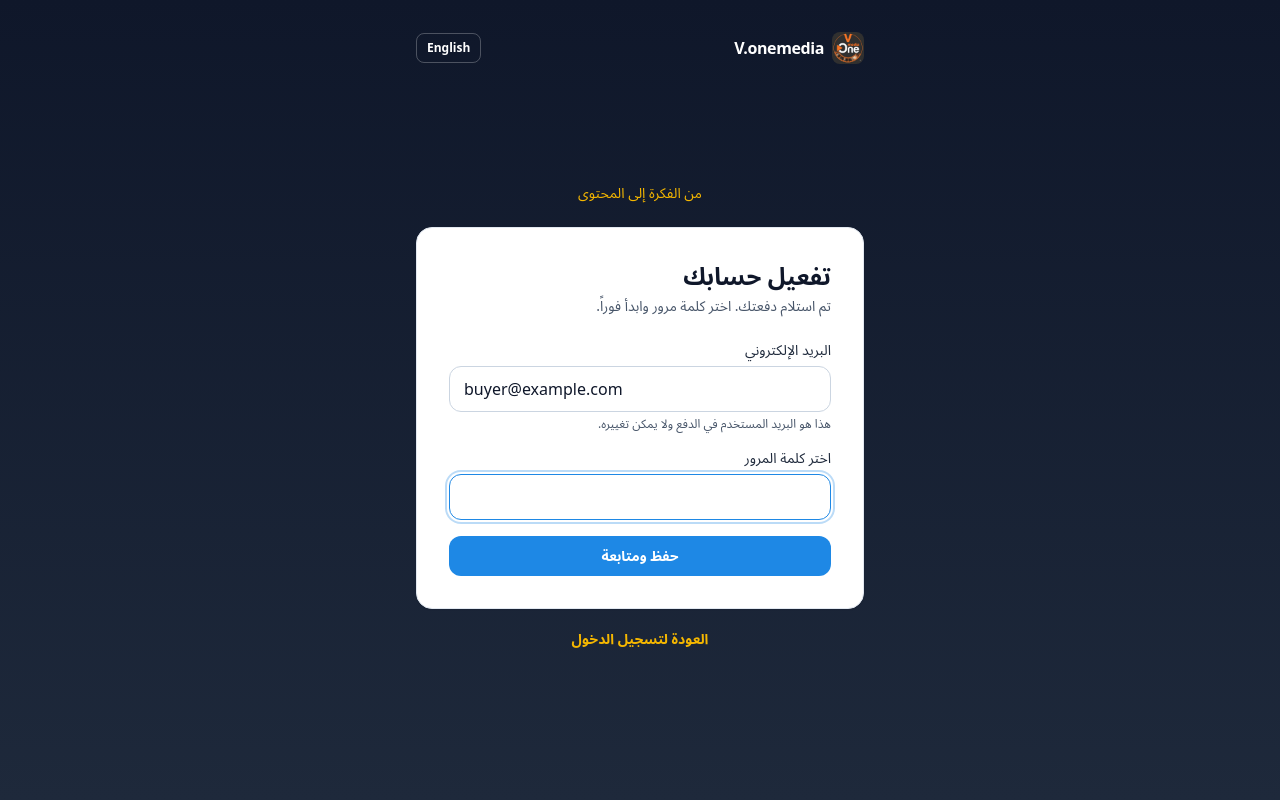
Test: activation form › surfaces the backend's refusal for a spent or unknown charge
Type "ChosenAtCheckout123" into the password field labelled "اختر كلمة المرور" at (640, 497), box 449,474 -> 831,520
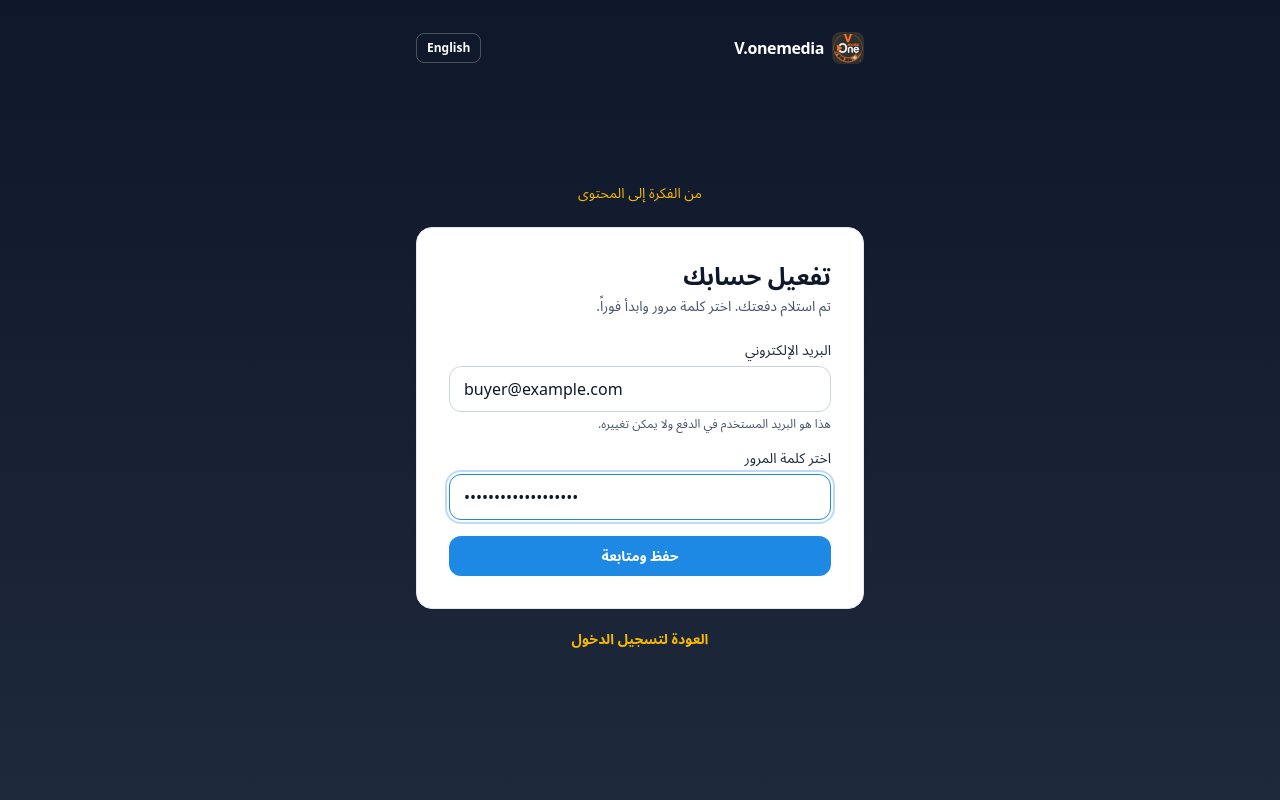
Click the button "حفظ ومتابعة" at (640, 556), box 449,536 -> 831,576
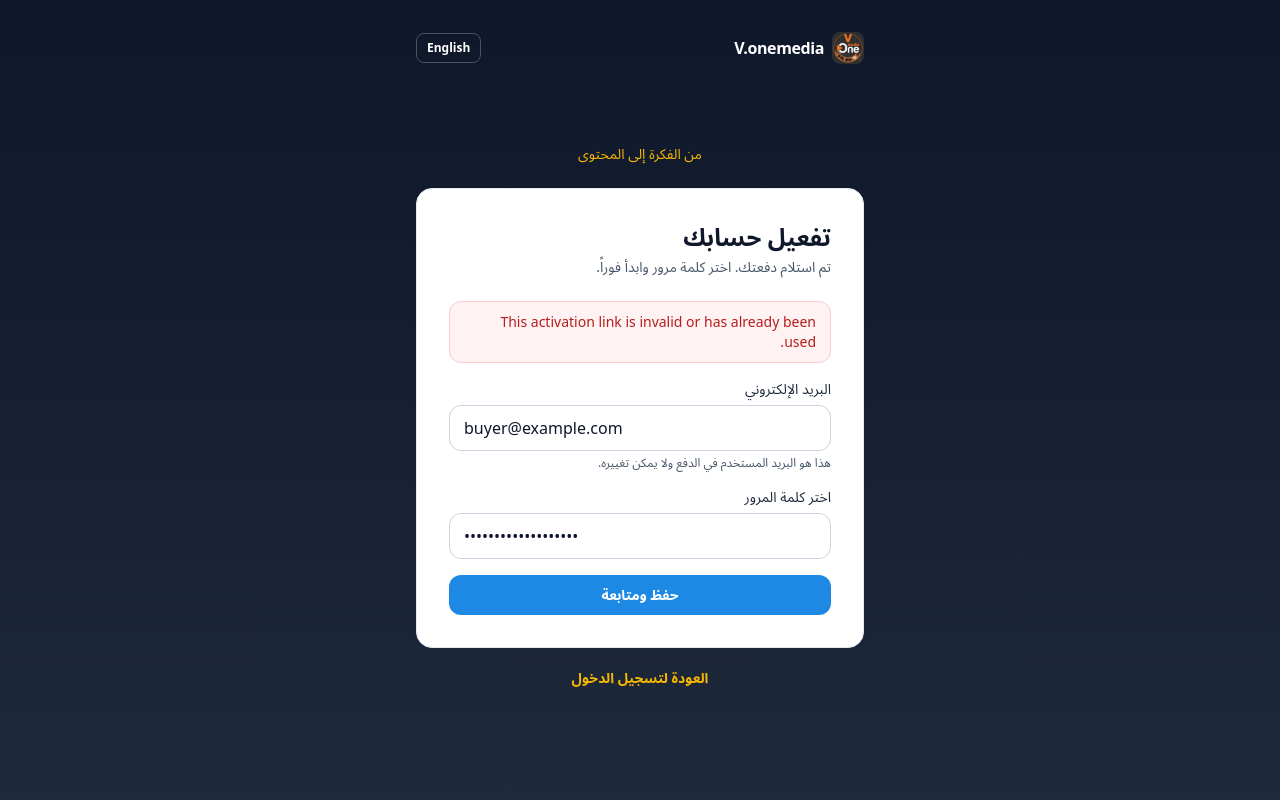
Now the message shows "already been used", box 500,312 -> 816,351
